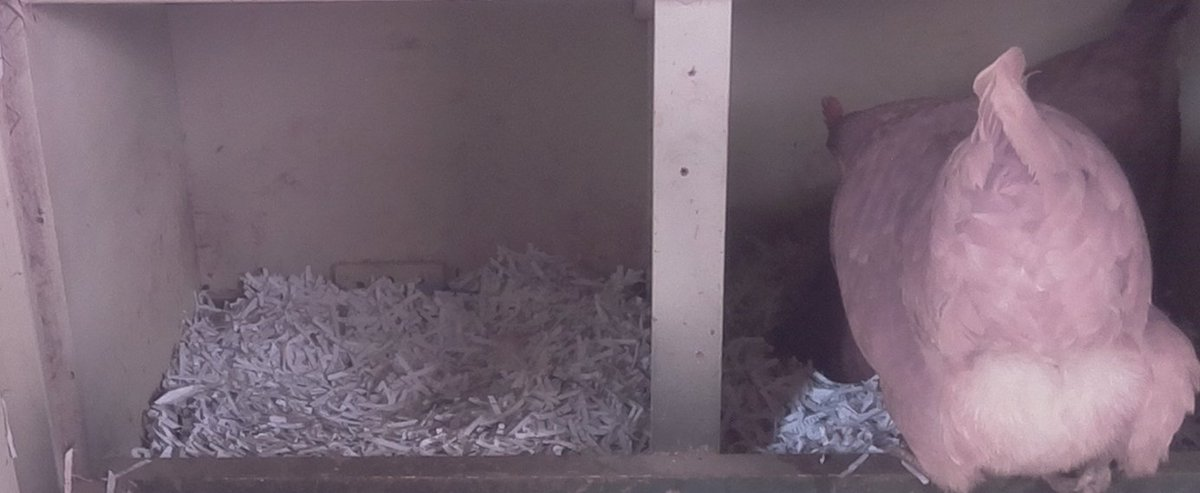hen: (818, 47, 1193, 487)
